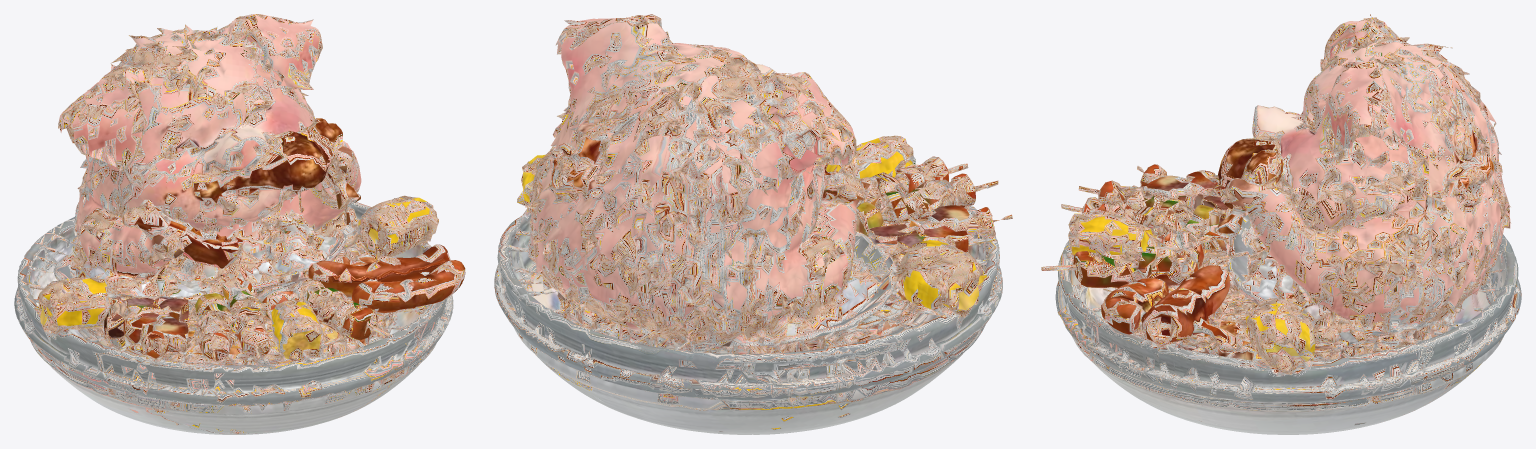
Rendered from bbq-feast-pig.glb.
The picture shows the model from 3 angles, left to right: view 1: azimuth 30°, elevation 25°; view 2: azimuth 150°, elevation 25°; view 3: azimuth 270°, elevation 25°; orthographic projection. The views are drawn at different scales.
Bounding box in the file's own units: 1.89 × 1.52 × 1.89.
Materials: 1 (1 with a texture image).
